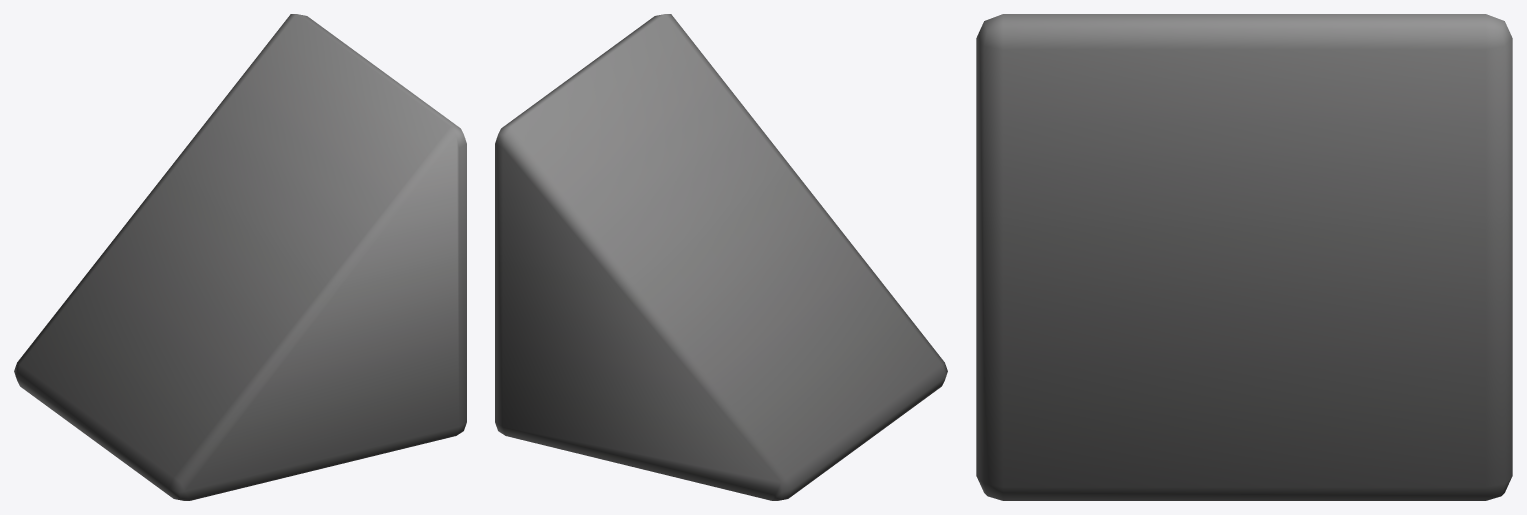
File: 3D_Tile_Dungeon_Slope_01.fbx
The picture shows the model from 3 angles, left to right: view 1: azimuth 30°, elevation 25°; view 2: azimuth 150°, elevation 25°; view 3: azimuth 270°, elevation 25°; orthographic projection. The views are drawn at different scales.
Visible parts, largest first — view 1: 3D_Tile_Dungeon_Slope_01; view 2: 3D_Tile_Dungeon_Slope_01; view 3: 3D_Tile_Dungeon_Slope_01.
Boxes of the visible parts, bbox=[...] form: 3D_Tile_Dungeon_Slope_01: bbox=[14, 14, 466, 500]; 3D_Tile_Dungeon_Slope_01: bbox=[495, 14, 947, 500]; 3D_Tile_Dungeon_Slope_01: bbox=[976, 14, 1512, 500].
Size of the model in its own units: 200 by 200 by 200.
